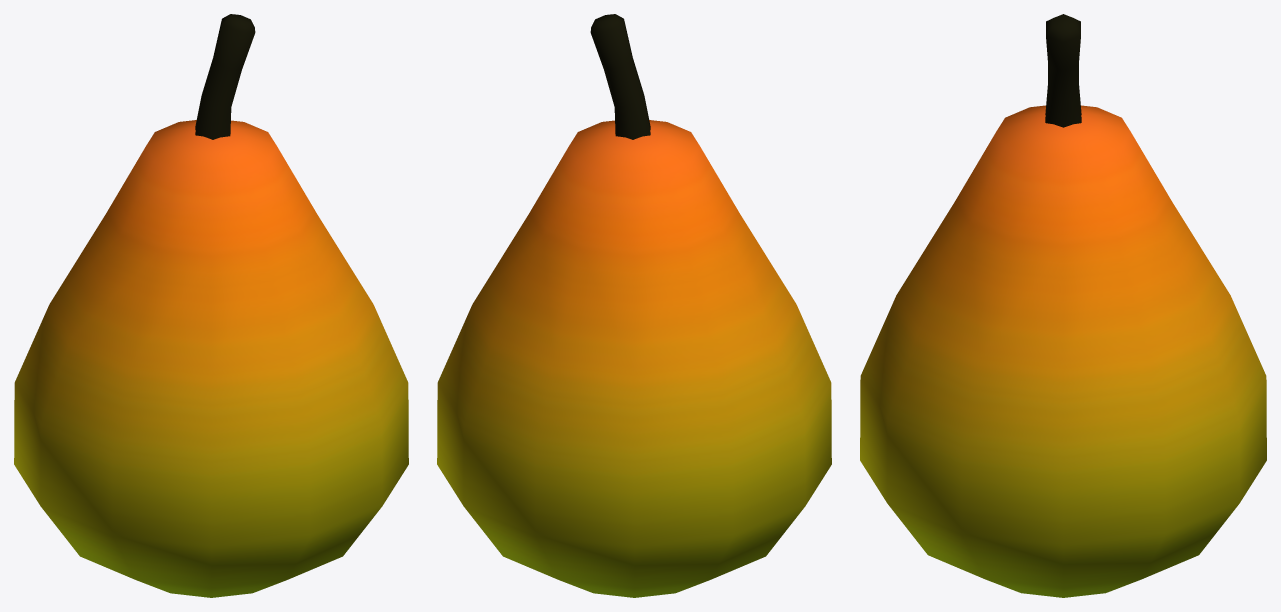
File: SM_Pear_1.1.fbx
3 renders of one model, left to right at view 1: azimuth 30°, elevation 25°; view 2: azimuth 150°, elevation 25°; view 3: azimuth 270°, elevation 25°, orthographic. The views are drawn at different scales.
Parts seen in each view (by area): view 1: SM_Pear_1.1; view 2: SM_Pear_1.1; view 3: SM_Pear_1.1.
Part boxes in pixels (x1,y1,x2,y2): SM_Pear_1.1: (14,14,408,597); SM_Pear_1.1: (437,14,831,597); SM_Pear_1.1: (860,14,1266,597).
Size of the model in its own units: 6.74 by 10.48 by 6.74.
Materials: 1 (1 with a texture image).
